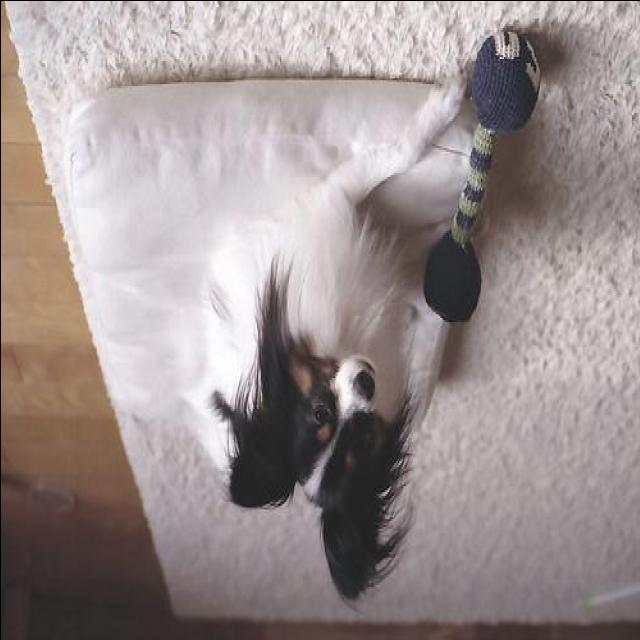papillon: (202, 65, 494, 606)
